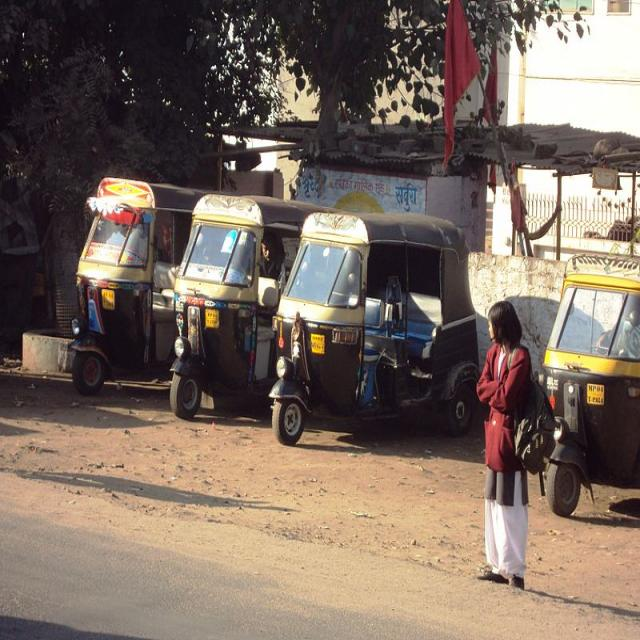autorikshaw: (274, 211, 477, 440), (171, 194, 347, 424), (71, 177, 216, 406), (545, 253, 640, 516)
